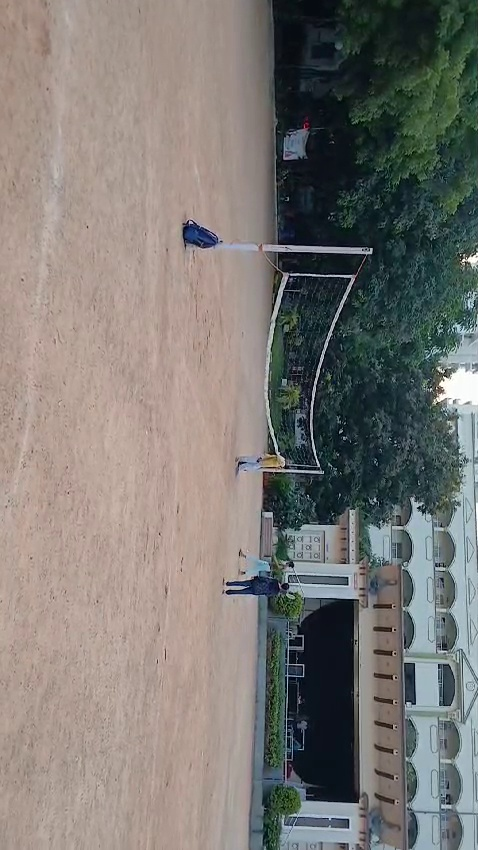bag: (177, 219, 221, 259)
